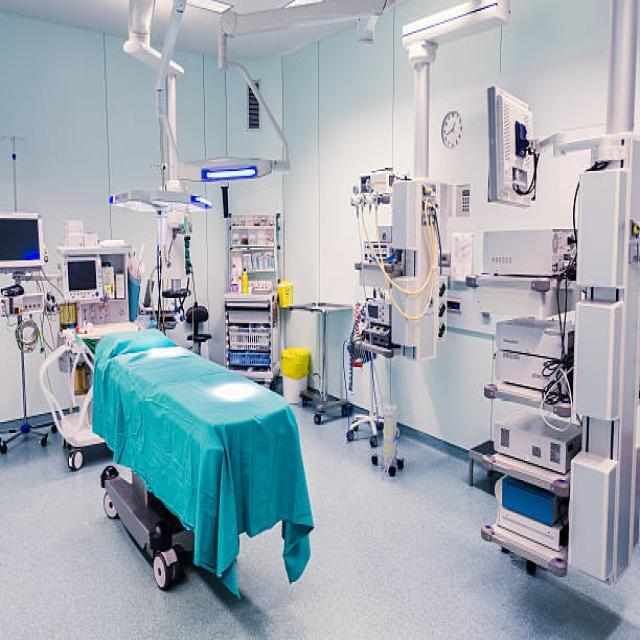Monitor: (56, 246, 110, 310), (0, 204, 43, 273)
bed: (90, 326, 314, 599)
